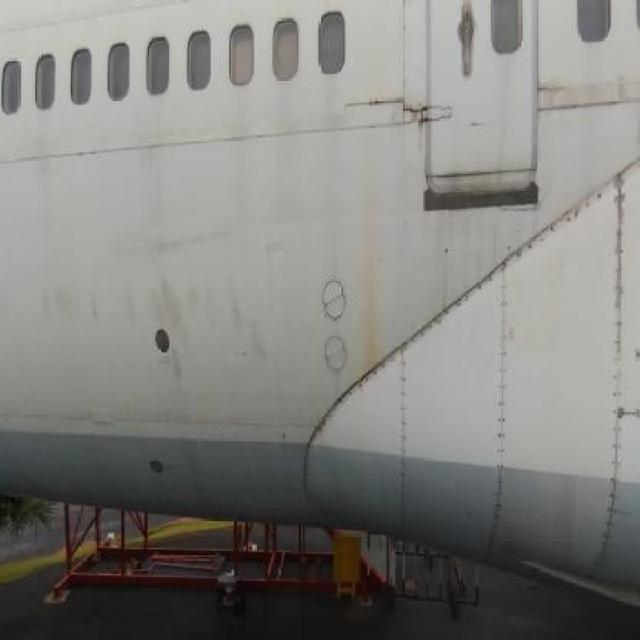Missing-Rivet: (604, 162, 631, 578), (510, 190, 602, 262), (408, 271, 489, 346), (492, 246, 508, 526), (330, 359, 392, 426), (394, 332, 414, 517)
Rust: (352, 156, 393, 390), (409, 91, 437, 174)
Scartch: (32, 271, 280, 395), (107, 215, 241, 263), (539, 75, 635, 130), (261, 218, 296, 272)
